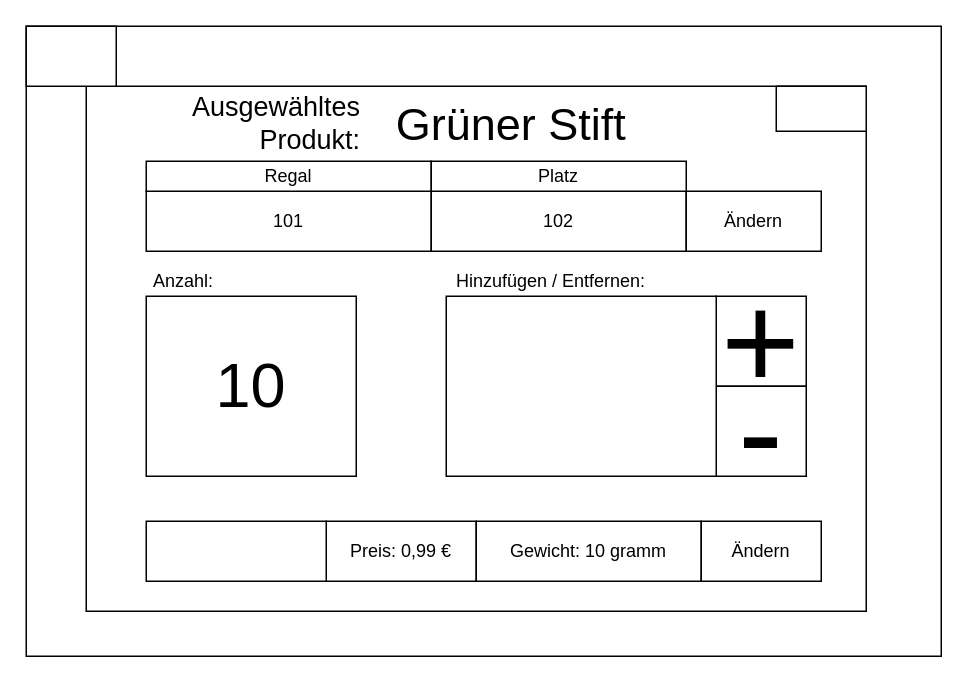
This 968x683 diagram has some shape labels left out. The centre of each missing label's shape, as x and y in pixels:
"Kategorie: Buntstift" goes at pixel 235 550.
"Löschen ?" goes at pixel 820 108.
"Menü" goes at pixel 70 55.
